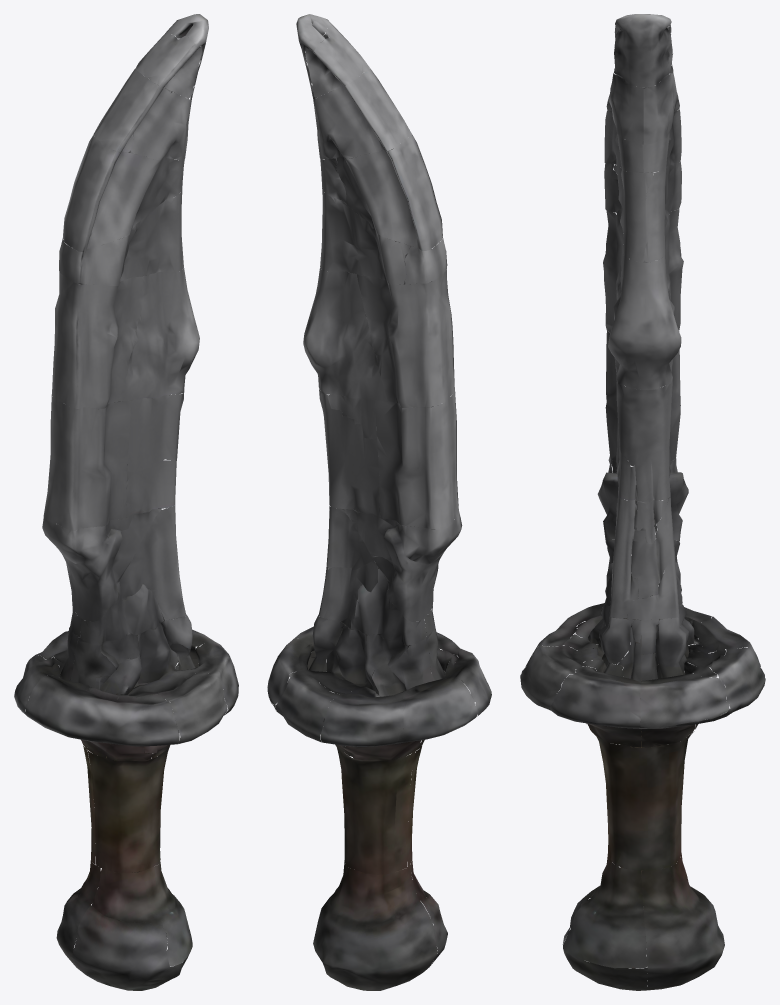
File: dagger3.glb
The picture shows the model from 3 angles, left to right: view 1: azimuth 30°, elevation 25°; view 2: azimuth 150°, elevation 25°; view 3: azimuth 270°, elevation 25°; orthographic projection. The views are drawn at different scales.
Visible parts, largest first — view 1: dagger3; view 2: dagger3; view 3: dagger3.
Boxes of the visible parts, bbox=[...] form: dagger3: bbox=[14, 14, 238, 990]; dagger3: bbox=[267, 14, 491, 990]; dagger3: bbox=[520, 14, 765, 990].
Size of the model in its own units: 0.2185 by 0.9997 by 0.2211.
1 material, 1 textured.
